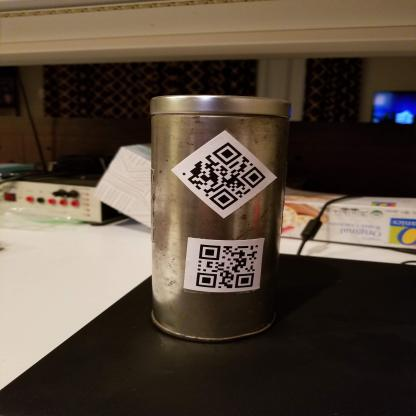qr: (181, 139, 270, 216), (193, 241, 260, 289)
